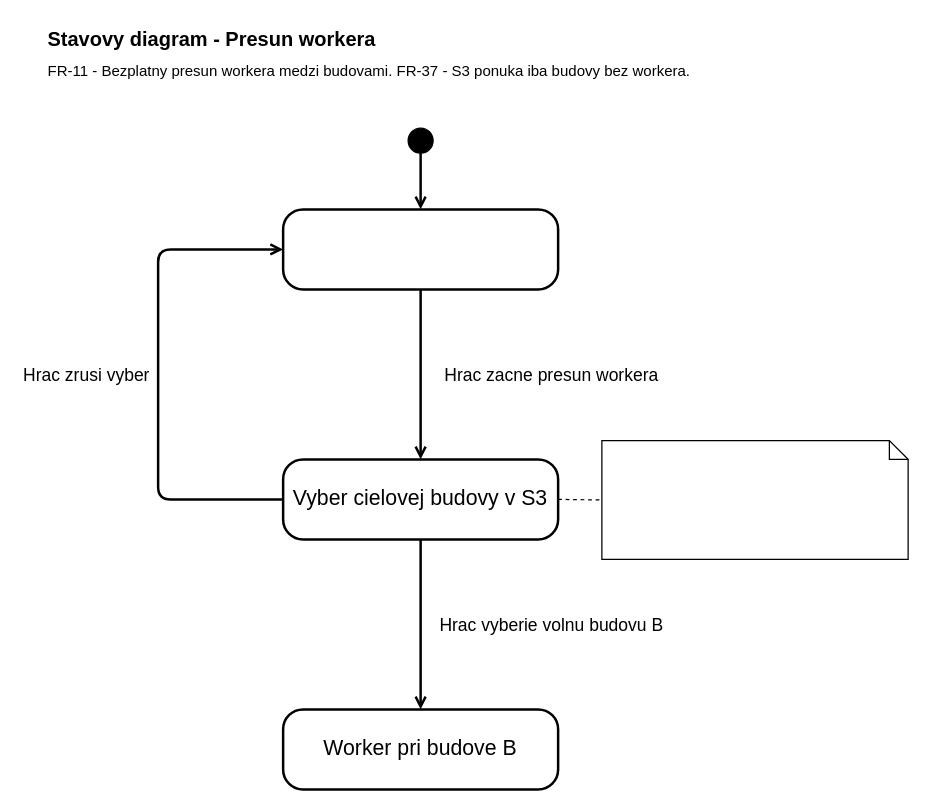
The diagram is 930 pixels wide and 811 high, and some of its shapes have lost their labels. Here are the shapes that lost their labels. From the top down, the centre of each, then its label:
pixel 420 249: Worker pri budove A
pixel 754 499: S3 ponuka iba budovy bez workera. Pocas vyberu worker zostava pri budove A.
